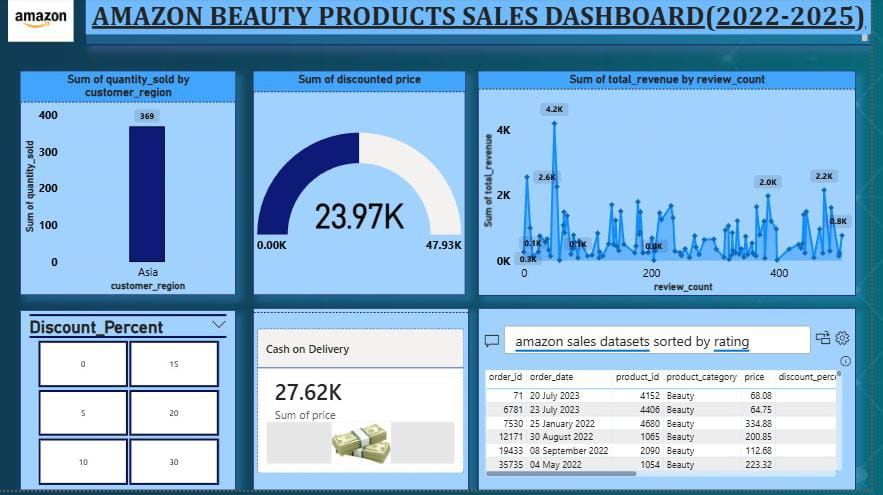

The dashboard page shown, as its layout file describes it:
{"tool":"powerbi","page":{"name":"Page 1","canvas":[1280,720],"ordinal":0},"visuals":[{"type":"textbox","title":"AMAZON BEAUTY PRODUCTS SALES DASHBOARD(2022-2025)","box":[128.8,0,1151.7,68.8],"z":0},{"type":"columnChart","fields":{"Category":["amazon_sales_dataset.customer_region"],"Y":["Sum(amazon_sales_dataset.quantity_sold)"]},"box":[0,106.8,349.8,327.8],"z":1000},{"type":"gauge","title":"Sum of discounted price","fields":{"Y":["Sum(amazon_sales_dataset.discounted_price)"]},"box":[374.6,107.5,310.8,327.6],"z":2000},{"type":"cardVisual","fields":{"Data":["Sum(amazon_sales_dataset.price)"],"Rows":["amazon_sales_dataset.payment_method"]},"box":[374.6,453.5,315.8,267.1],"z":3000},{"type":"slicer","fields":{"Values":["amazon_sales_dataset.discount_percent"]},"box":[0,456.6,349.8,263.4],"z":4000},{"type":"qnaVisual","box":[703.9,453.7,576.6,266.3],"z":5000},{"type":"image","box":[0,0,112.7,64.4],"z":6000},{"type":"lineChart","fields":{"Category":["amazon_sales_dataset.review_count"],"Y":["Sum(amazon_sales_dataset.total_revenue)"]},"box":[703.9,106.8,576.6,329.3],"z":7000}]}

Visuals, with their boxes in screenshot pixels (x1, y1, x2, y2), scaled from the page's 1280x720 canvas onto the 883x495 screenshot:
"AMAZON BEAUTY PRODUCTS SALES DASHBOARD(2022-2025)" textbox: left=89, top=0, right=882, bottom=47
columnChart - amazon_sales_dataset.customer_region x Sum(amazon_sales_dataset.quantity_sold): left=0, top=73, right=241, bottom=299
"Sum of discounted price" gauge: left=258, top=74, right=473, bottom=299
cardVisual - Sum(amazon_sales_dataset.price) x amazon_sales_dataset.payment_method: left=258, top=312, right=476, bottom=494
slicer - amazon_sales_dataset.discount_percent: left=0, top=314, right=241, bottom=494
qnaVisual: left=486, top=312, right=882, bottom=494
image: left=0, top=0, right=78, bottom=44
lineChart - amazon_sales_dataset.review_count x Sum(amazon_sales_dataset.total_revenue): left=486, top=73, right=882, bottom=300
